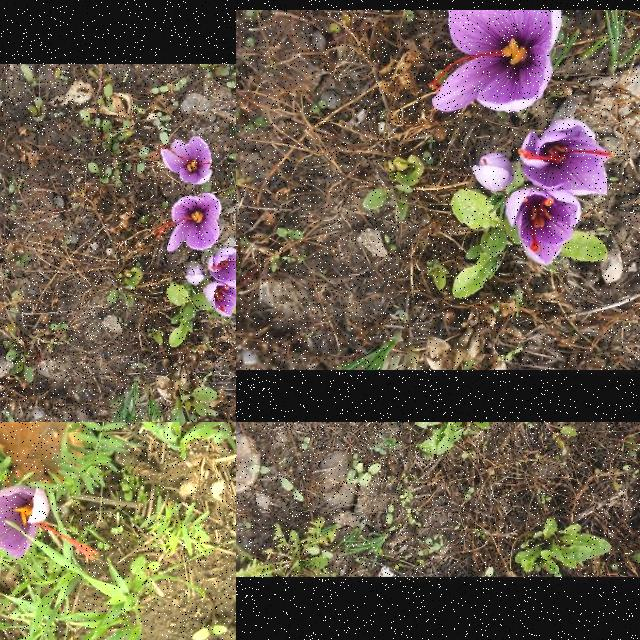flower: (430, 10, 560, 112), (0, 483, 96, 560), (520, 118, 612, 196), (506, 188, 582, 266), (153, 194, 221, 252), (160, 138, 212, 185), (472, 152, 514, 192), (203, 283, 236, 317), (208, 247, 236, 282), (186, 262, 204, 286)
